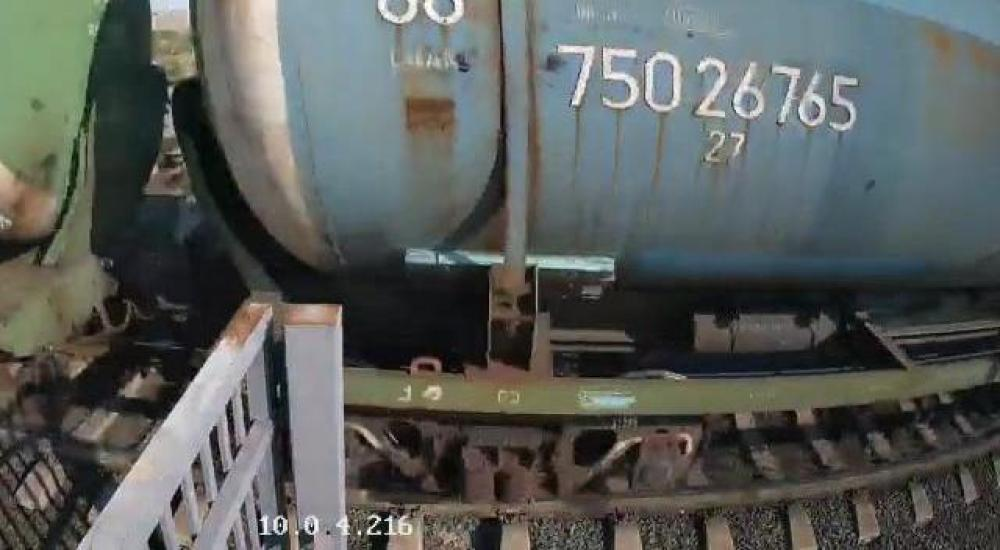Wagon-number: (558, 36, 860, 136)
